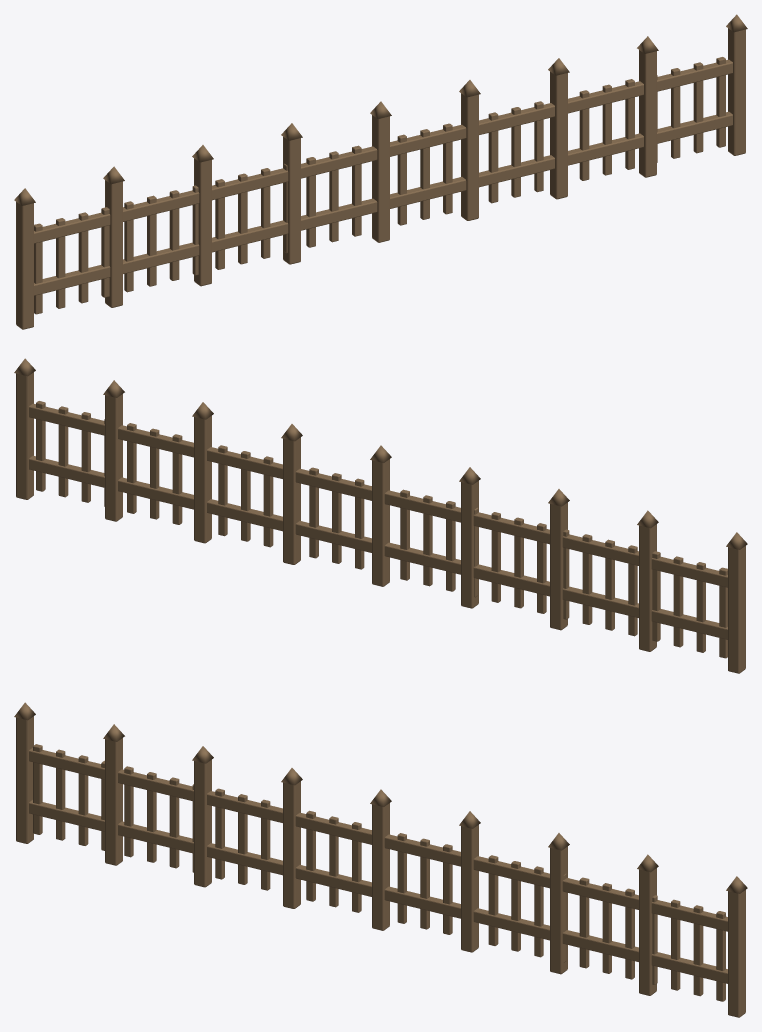
Rendered from Prop_Fence_10m_01.fbx.
3 views of the same model, one above another, from view 1: azimuth 30°, elevation 25°; view 2: azimuth 150°, elevation 25°; view 3: azimuth 330°, elevation 25° (orthographic).
Visible parts, largest first — view 1: Prop_Fence_10m_01_OPT_Merged_ENV_Fence_WeatheredWood_OPT_DAT; view 2: Prop_Fence_10m_01_OPT_Merged_ENV_Fence_WeatheredWood_OPT_DAT; view 3: Prop_Fence_10m_01_OPT_Merged_ENV_Fence_WeatheredWood_OPT_DAT.
Part boxes in pixels (bbox=[...]): Prop_Fence_10m_01_OPT_Merged_ENV_Fence_WeatheredWood_OPT_DAT: bbox=[14, 14, 747, 329]; Prop_Fence_10m_01_OPT_Merged_ENV_Fence_WeatheredWood_OPT_DAT: bbox=[14, 358, 747, 673]; Prop_Fence_10m_01_OPT_Merged_ENV_Fence_WeatheredWood_OPT_DAT: bbox=[14, 702, 747, 1017].
Bounding box in the file's own units: 1020 × 186 × 19.8.
